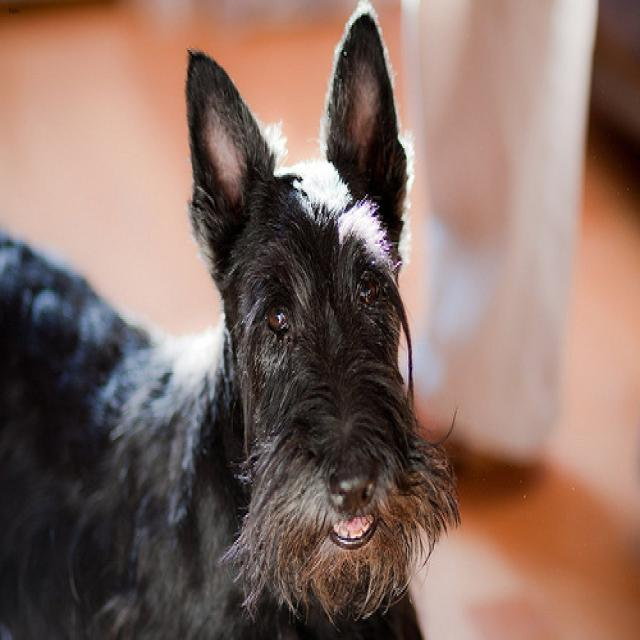dog-scottish_terrier: (1, 2, 467, 636)
